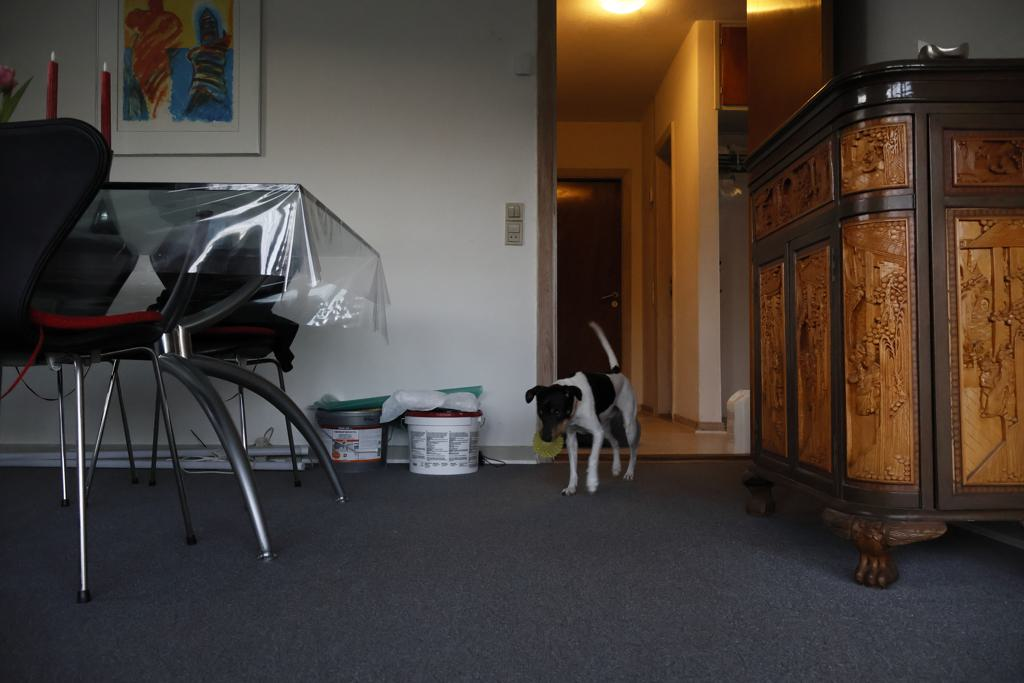Dog: (513, 314, 656, 507)
